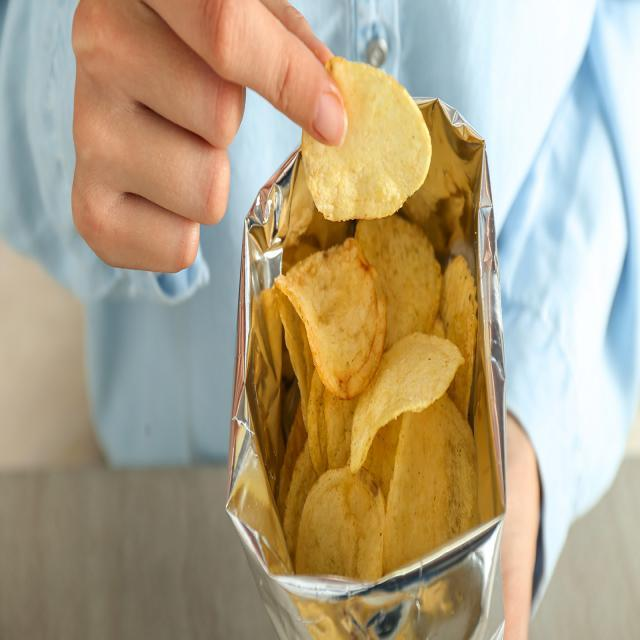Chips packaged: (275, 226, 493, 567), (298, 36, 443, 234)
